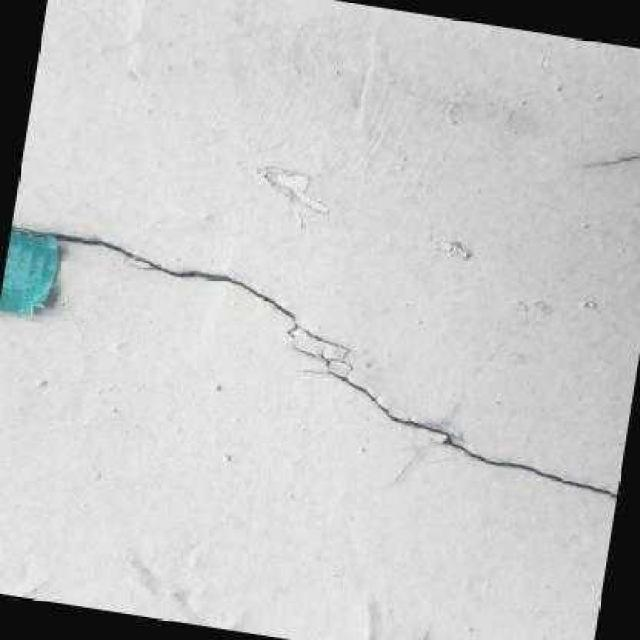D00: (9, 221, 617, 499)
